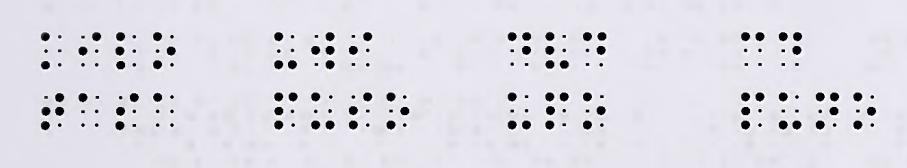a: (152, 92, 175, 127), (78, 93, 100, 128)
c: (741, 31, 763, 66)
d: (508, 31, 532, 67), (779, 31, 802, 67), (583, 32, 606, 66)
i: (78, 31, 101, 68), (349, 31, 372, 67)
k: (41, 31, 63, 70)
l: (115, 31, 137, 70)
n: (816, 92, 840, 130)
o: (386, 91, 411, 130), (153, 31, 177, 70), (853, 92, 877, 131), (583, 92, 607, 130)
p: (274, 92, 298, 130), (545, 92, 569, 130), (741, 92, 765, 130)
s: (115, 92, 139, 131), (349, 92, 372, 130)
t: (41, 93, 64, 130)
u: (274, 31, 298, 70), (507, 91, 531, 130), (311, 92, 335, 130), (779, 92, 802, 130)
v: (545, 31, 569, 69)
w: (311, 32, 336, 70)
